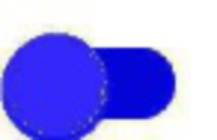Switch: (1, 1, 216, 139)
